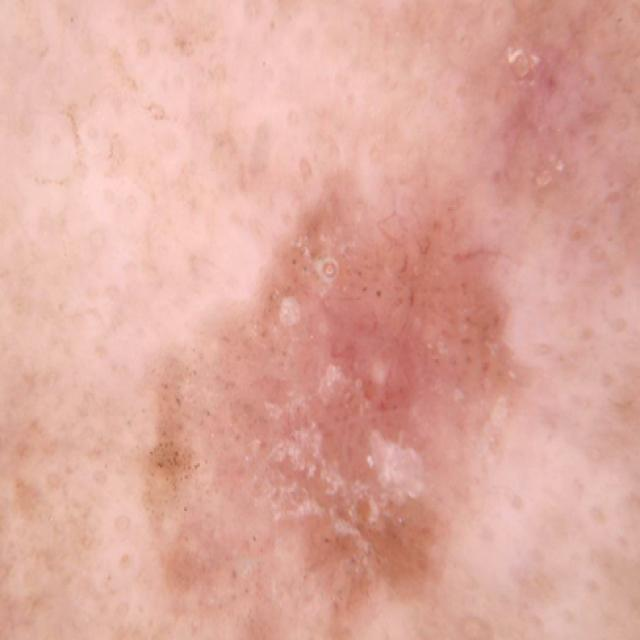Carcinoma: (109, 150, 593, 640), (489, 36, 640, 122)
